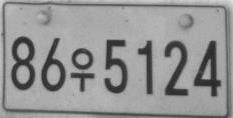1: (134, 39, 161, 94)
2: (163, 39, 189, 96)
4: (193, 39, 221, 97)
5: (102, 39, 129, 93)
6: (40, 37, 66, 92)
8: (9, 35, 36, 90)
우: (69, 47, 95, 92)
